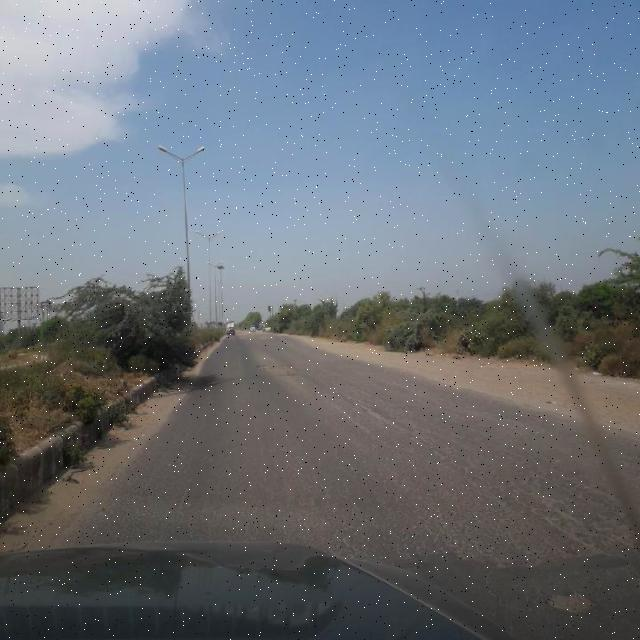D00: (334, 384, 419, 439)
D20: (404, 399, 640, 553)
D40: (544, 582, 599, 619)
